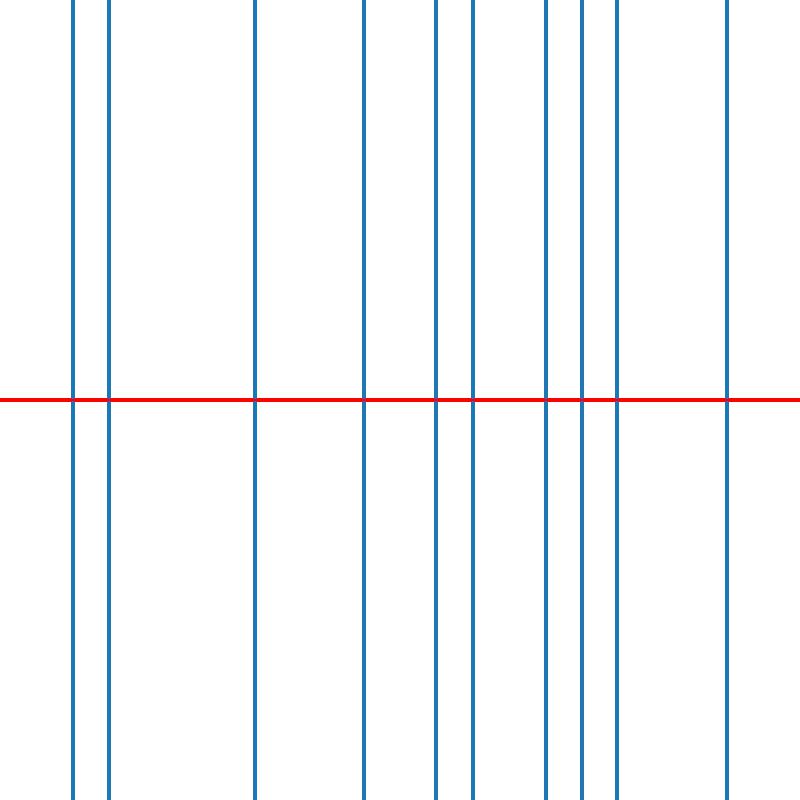root: (541, 396, 549, 404), (250, 396, 258, 404), (432, 396, 440, 404), (578, 396, 585, 404), (105, 396, 112, 404), (614, 396, 621, 404), (723, 396, 730, 404), (360, 396, 367, 404), (469, 396, 476, 404), (69, 396, 76, 404)
